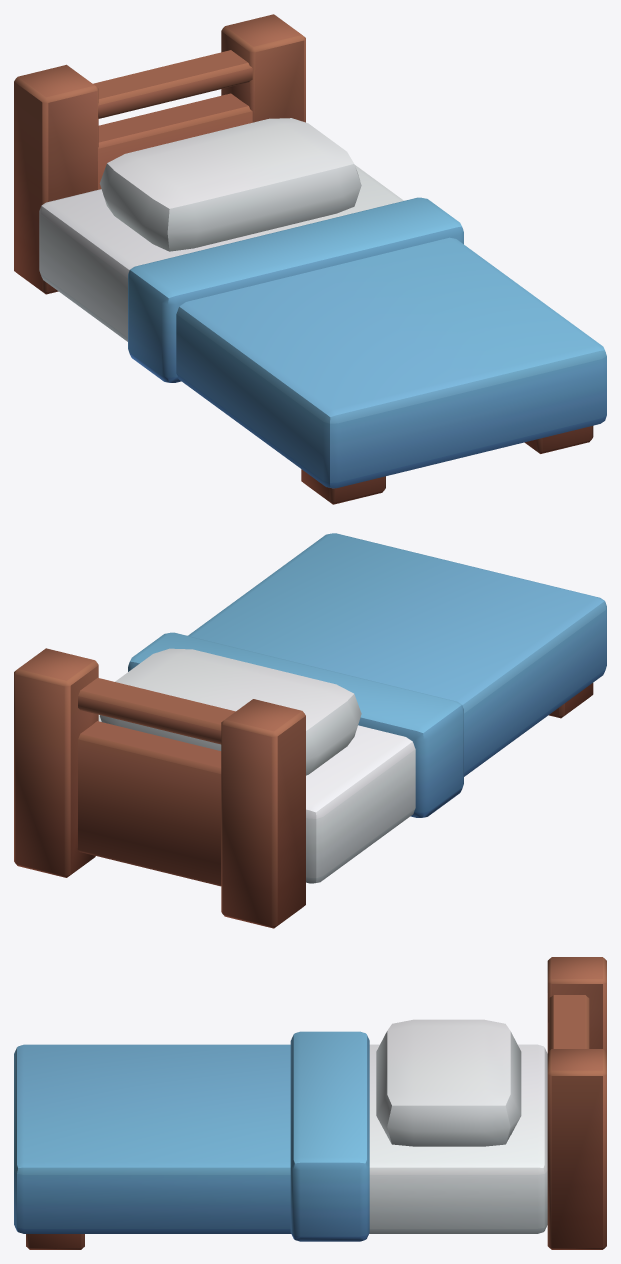
Rendered from kkf.bed_single_a.glb.
3 renders of one model, top to bottom at view 1: azimuth 30°, elevation 25°; view 2: azimuth 150°, elevation 25°; view 3: azimuth 270°, elevation 25°, orthographic. The views are drawn at different scales.
Parts seen in each view (by area): view 1: bed_single_A; view 2: bed_single_A; view 3: bed_single_A.
Boxes of the visible parts, box(x1,y1,x2,y2) form: bed_single_A: box(14, 14, 606, 504); bed_single_A: box(14, 533, 606, 928); bed_single_A: box(14, 957, 606, 1249).
Size of the model in its own units: 1.14 by 0.7153 by 2.15.
1 material, 1 textured.
